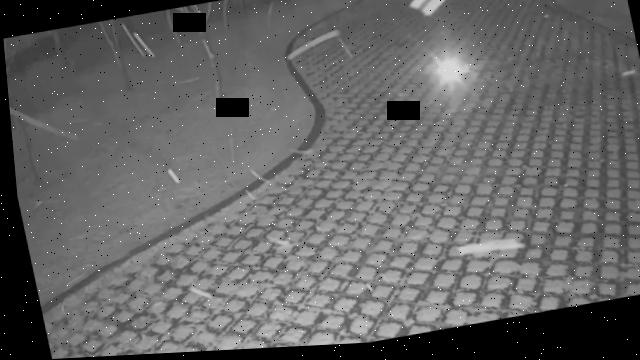fire: (429, 54, 473, 90)
